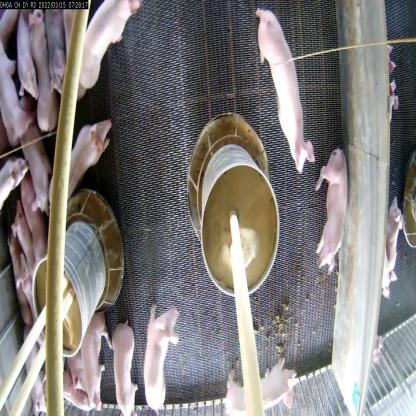Pig: (245, 5, 314, 177), (307, 134, 360, 306), (39, 117, 115, 201), (77, 0, 145, 93), (140, 294, 178, 415), (220, 356, 296, 416), (76, 300, 117, 398), (0, 24, 31, 149), (109, 317, 145, 415)
